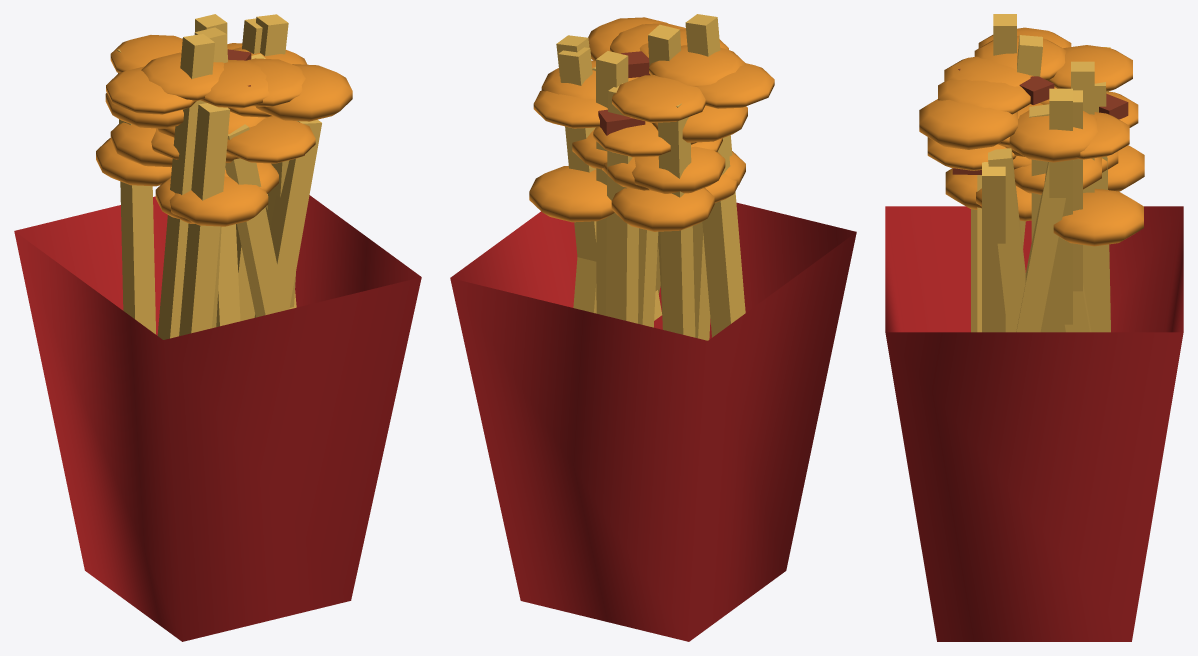
The model's file is papas-americanas.glb.
The picture shows the model from 3 angles, left to right: view 1: azimuth 30°, elevation 25°; view 2: azimuth 150°, elevation 25°; view 3: azimuth 270°, elevation 25°; orthographic projection.
Bounding box in the file's own units: 0.0813 × 0.17 × 0.0813.
